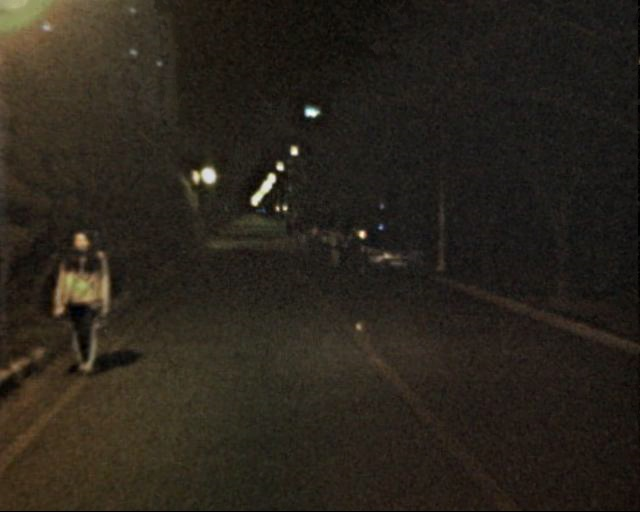person: (54, 223, 125, 371), (326, 223, 345, 269), (287, 218, 308, 245)
